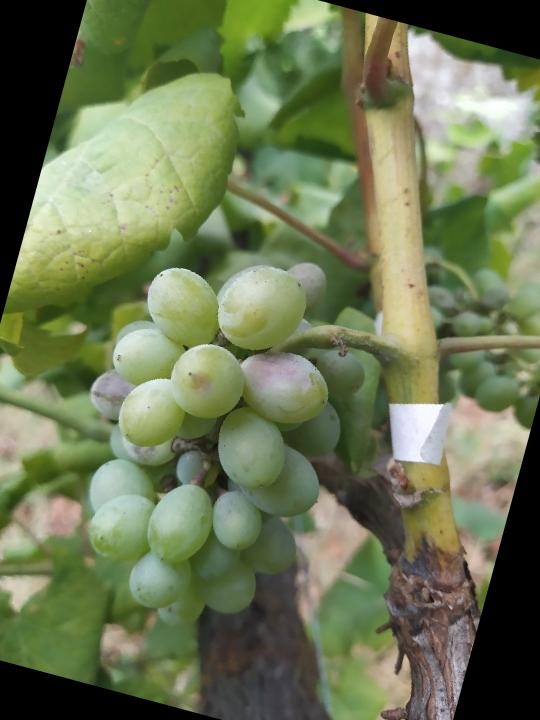grape: (30, 217, 397, 665)
